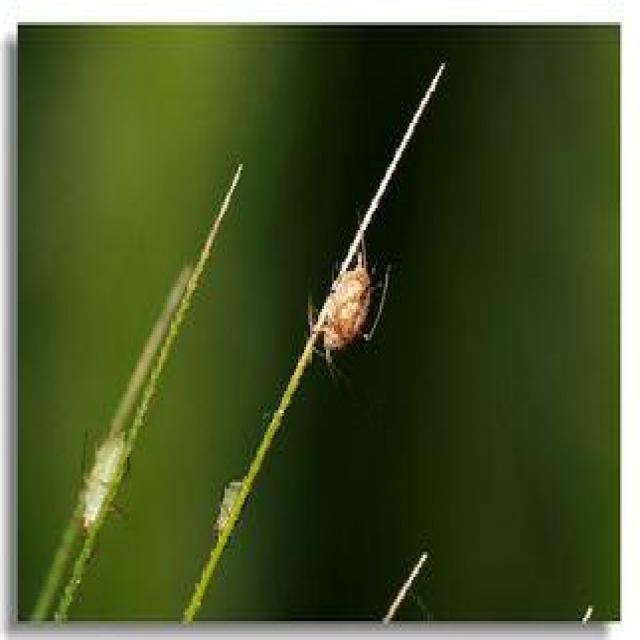aphid: (303, 243, 382, 375), (64, 436, 132, 550), (213, 474, 247, 554)
